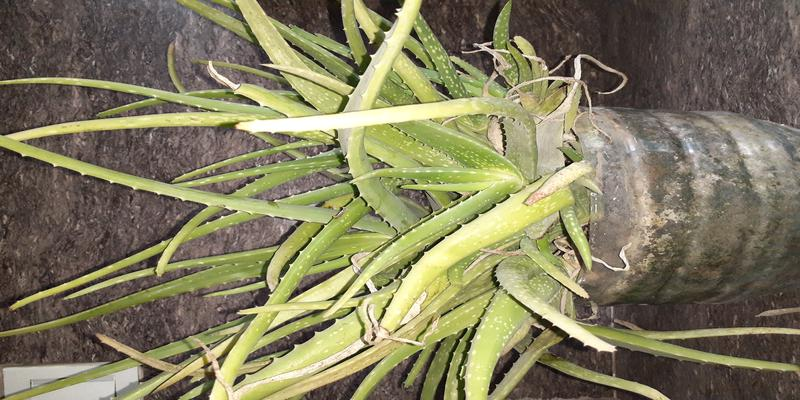Aloevera: (159, 28, 592, 379)
